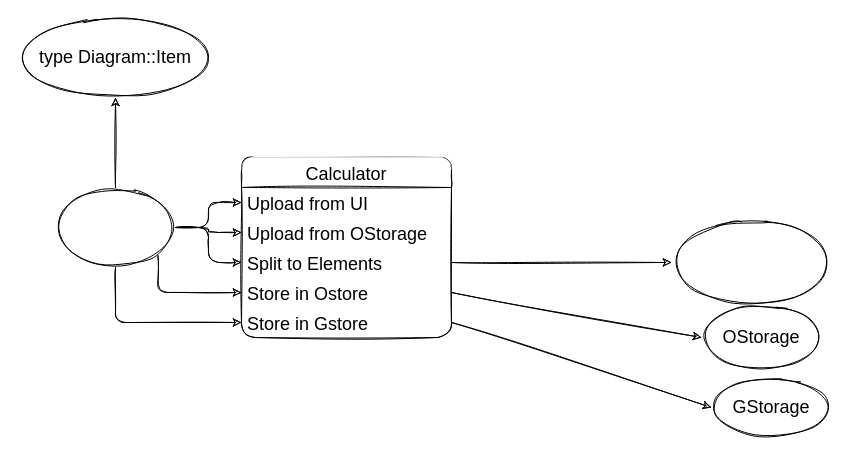
The diagram is 849 pixels wide and 455 high, and some of its shapes have lost their labels. The box of each missing label's shape, as (x1, y1, x2, y2) in pixels:
Diagram UseCase: (54, 186, 176, 268)
DiagramConverter: (670, 222, 832, 302)
